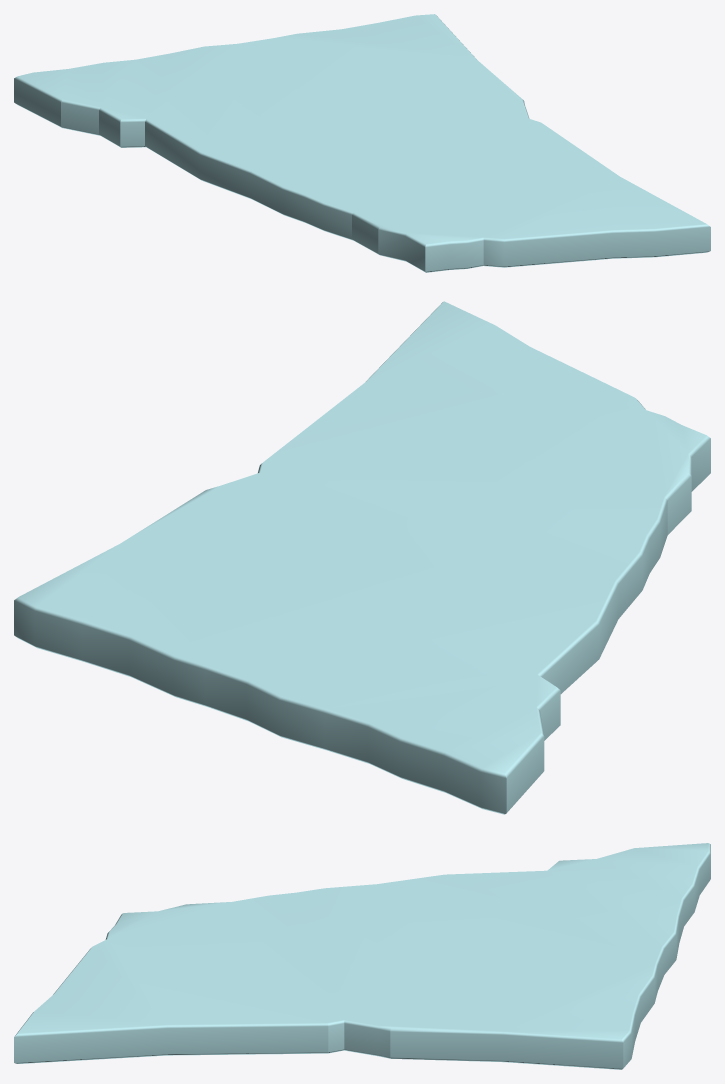
Rendered from ice_floe_large_003.fbx.
The picture shows the model from 3 angles, top to bottom: view 1: azimuth 30°, elevation 25°; view 2: azimuth 150°, elevation 25°; view 3: azimuth 270°, elevation 25°; orthographic projection. The views are drawn at different scales.
Parts seen in each view (by area): view 1: ice_floe_large_003; view 2: ice_floe_large_003; view 3: ice_floe_large_003.
Part boxes in pixels (left/top/right/bottom): ice_floe_large_003: left=14, top=14, right=710, bottom=272; ice_floe_large_003: left=14, top=301, right=710, bottom=814; ice_floe_large_003: left=14, top=843, right=710, bottom=1069.
Bounding box in the file's own units: 1261 × 1869 × 91.15.
